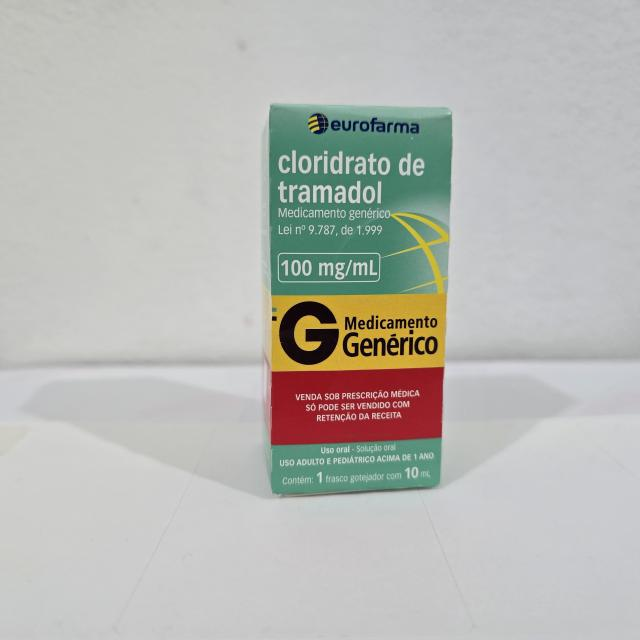tramadol: (257, 99, 458, 502)
